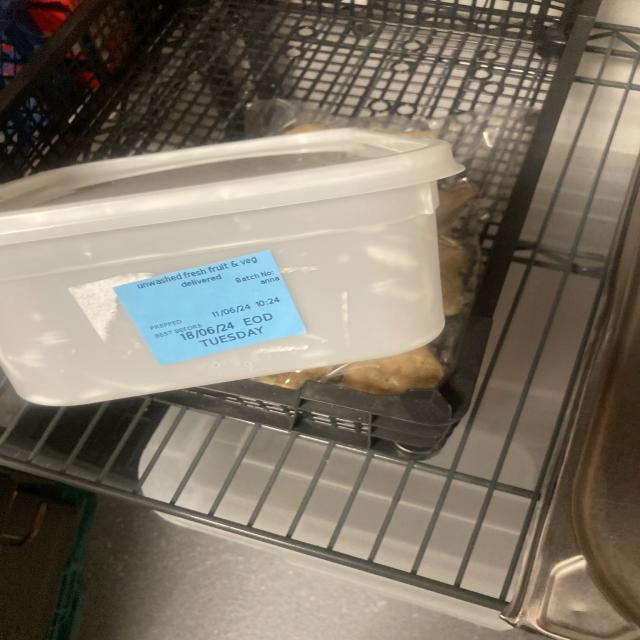product-labels: (116, 249, 308, 365)
